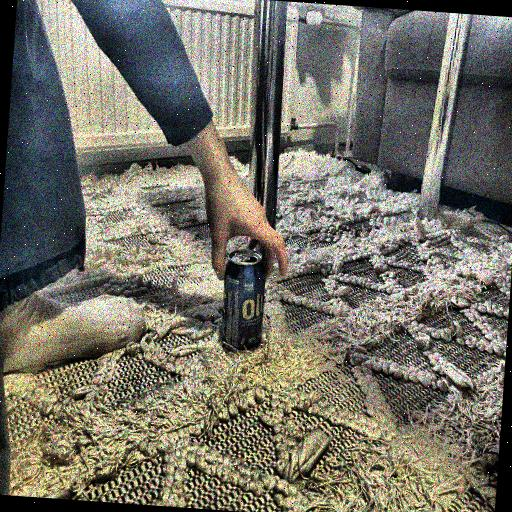koti: (210, 247, 269, 350)
